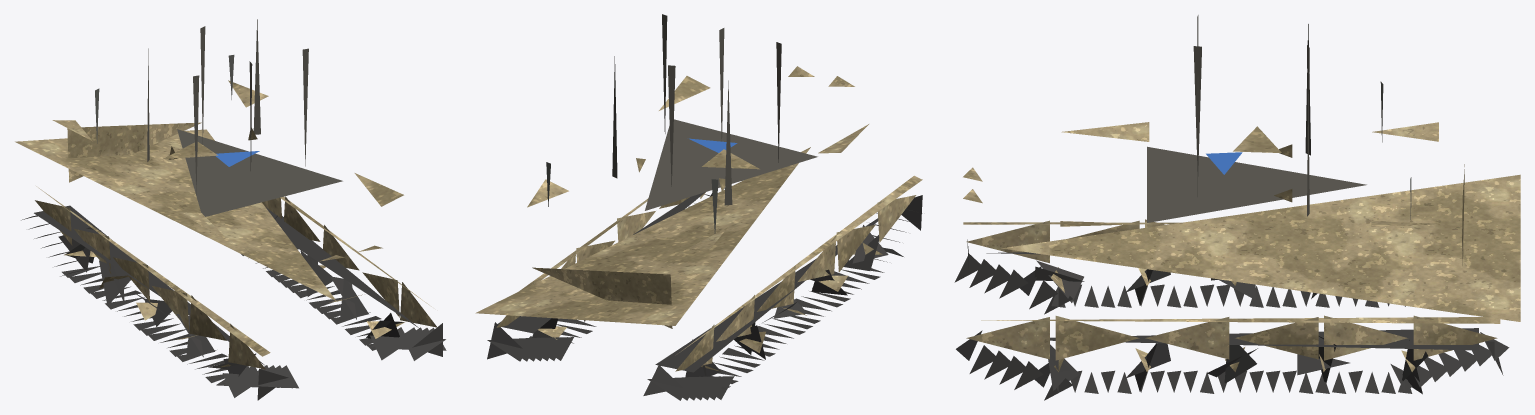
File: cmd_e4_us_command_LOD2.glb
3 views of the same model, side by side, from view 1: azimuth 30°, elevation 25°; view 2: azimuth 150°, elevation 25°; view 3: azimuth 270°, elevation 25° (orthographic). The views are drawn at different scales.
Parts seen in each view (by area): view 1: cmd_e4_us_command_LOD2_body, cmd_e4_us_command_LOD2_track, cmd_e4_us_command_LOD2_deck; view 2: cmd_e4_us_command_LOD2_body, cmd_e4_us_command_LOD2_track, cmd_e4_us_command_LOD2_deck; view 3: cmd_e4_us_command_LOD2_body, cmd_e4_us_command_LOD2_track, cmd_e4_us_command_LOD2_deck.
Part boxes in pixels (bbox=[...]): cmd_e4_us_command_LOD2_body: bbox=[15, 80, 437, 369]; cmd_e4_us_command_LOD2_track: bbox=[21, 205, 446, 400]; cmd_e4_us_command_LOD2_deck: bbox=[147, 19, 342, 216]; cmd_e4_us_command_LOD2_body: bbox=[475, 66, 922, 371]; cmd_e4_us_command_LOD2_track: bbox=[487, 180, 922, 400]; cmd_e4_us_command_LOD2_deck: bbox=[612, 14, 817, 210]; cmd_e4_us_command_LOD2_body: bbox=[963, 122, 1520, 371]; cmd_e4_us_command_LOD2_track: bbox=[954, 239, 1509, 400]; cmd_e4_us_command_LOD2_deck: bbox=[1147, 15, 1366, 222].
Bounding box in the file's own units: 3 × 3.91 × 6.67.
Materials: 5 (1 with a texture image).
